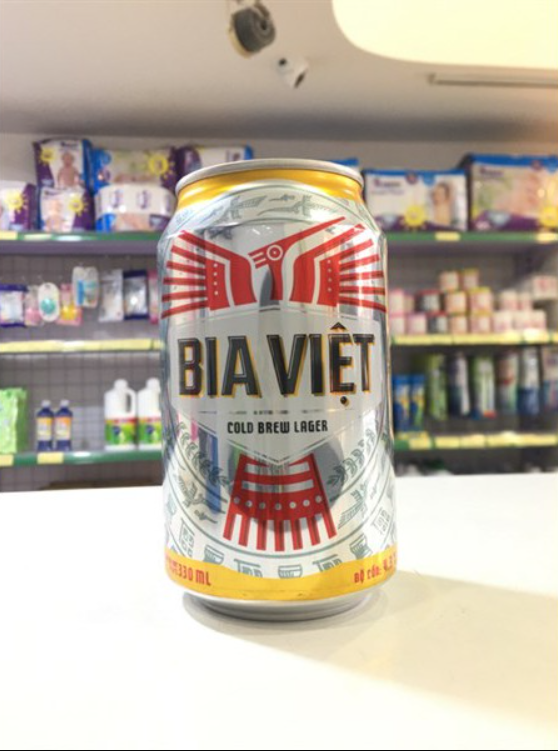biaviet: (175, 323, 377, 409)
